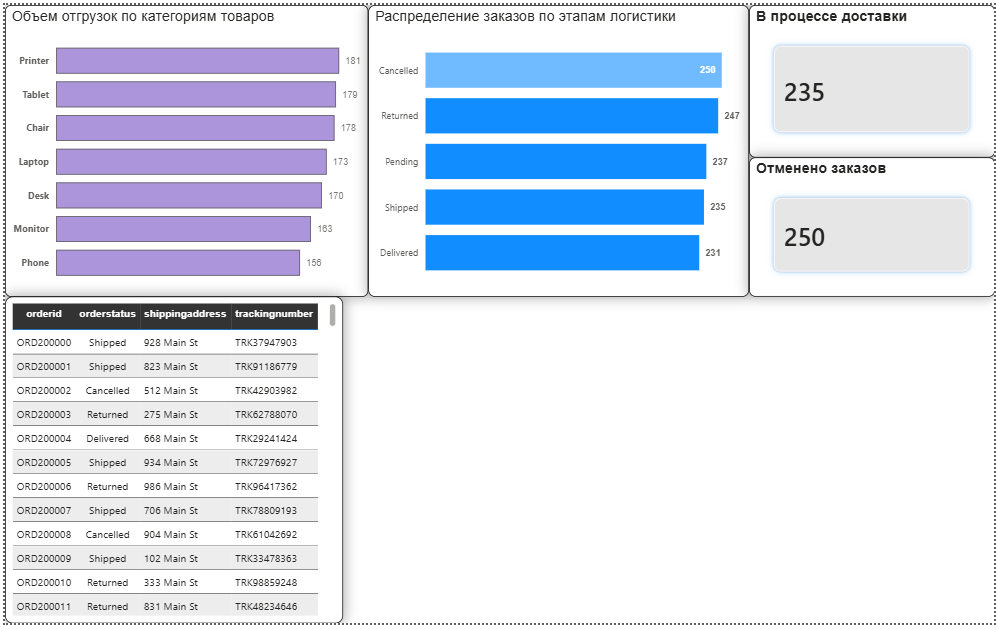

The page's visual inventory and layout, read from the dashboard file:
{"tool":"powerbi","page":{"name":"Страница 2","canvas":[1280,800],"ordinal":1},"visuals":[{"type":"barChart","title":"Объем отгрузок по категориям товаров","fields":{"Category":["clean_sales.product"],"Y":["CountNonNull(clean_logistics.orderid)"]},"box":[0,0,470,377.5],"z":0},{"type":"clusteredBarChart","title":"Распределение заказов по этапам логистики","fields":{"Category":["clean_logistics.orderstatus"],"Y":["CountNonNull(clean_logistics.orderid)"]},"box":[470,0,492.5,377.5],"z":1000},{"type":"tableEx","fields":{"Values":["clean_logistics.orderid","clean_logistics.orderstatus","clean_logistics.shippingaddress","clean_logistics.trackingnumber"]},"box":[0,377.5,437.5,422.5],"z":2000},{"type":"cardVisual","title":"В процессе доставки","fields":{"Data":["Count(clean_logistics.orderid)"]},"box":[962.5,0,317.5,197.5],"z":3000},{"type":"cardVisual","title":"Отменено заказов","fields":{"Data":["Count(clean_logistics.orderid)"]},"box":[962.5,197.5,317.5,180],"z":4000}]}

Visuals, with their boxes in screenshot pixels (x1, y1, x2, y2), scaled from the page's 1280x800 canvas onto the 996x628 screenshot:
"Объем отгрузок по категориям товаров" barChart: [0, 0, 366, 296]
"Распределение заказов по этапам логистики" clusteredBarChart: [366, 0, 749, 296]
tableEx - clean_logistics.orderid x clean_logistics.orderstatus: [0, 296, 340, 627]
"В процессе доставки" cardVisual: [749, 0, 995, 155]
"Отменено заказов" cardVisual: [749, 155, 995, 296]
